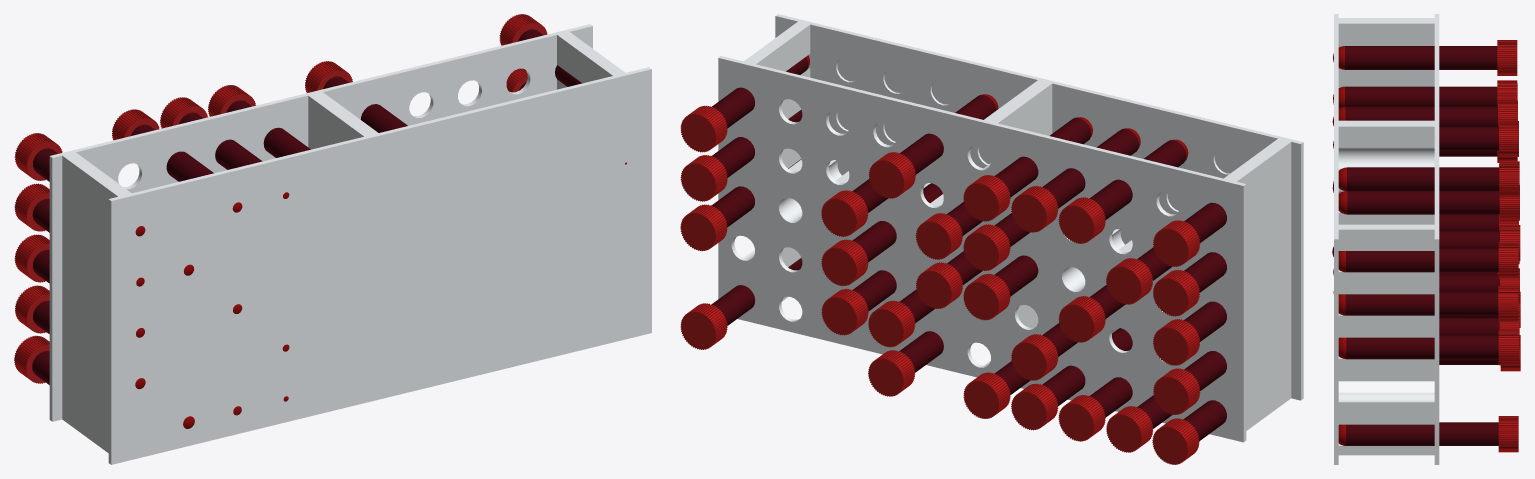
The model's file is muestras de sangre.fbx.
3 views of the same model, side by side, from view 1: azimuth 30°, elevation 25°; view 2: azimuth 150°, elevation 25°; view 3: azimuth 270°, elevation 25° (orthographic). The views are drawn at different scales.
Visible parts, largest first — view 1: Cut-Extrude1 (×11); view 2: Cut-Extrude1 (×30); view 3: Cut-Extrude1 (×18).
Boxes of the visible parts, <box> form: Cut-Extrude1 (×11): <box>14,14,651,464</box>; Cut-Extrude1 (×30): <box>680,14,1303,464</box>; Cut-Extrude1 (×18): <box>1333,14,1520,464</box>.
Bounding box in the file's own units: 4.38 × 2.04 × 1.55.
